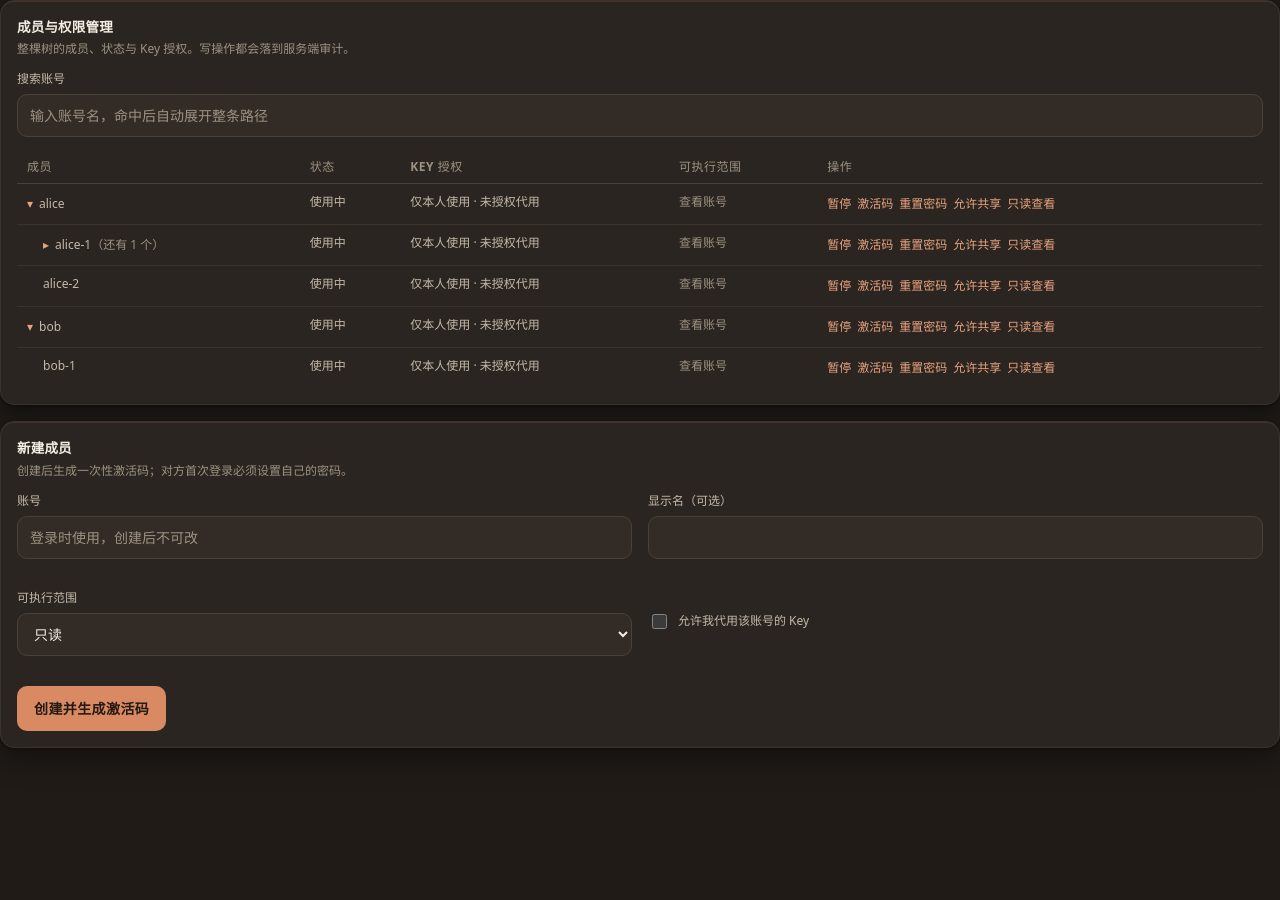
Test: 成员页根视图：层级树折叠 › 搜索命中时自动展开命中路径并高亮命中片段
Expected: the number of column headings is 5, [17,151,300,184]; [300,151,400,184]; [400,151,669,184]; [669,151,817,184]; [817,151,1263,184]
In the search field labelled "搜索账号": x=640, y=116 [17,94,1263,137], type "alice-1-1"
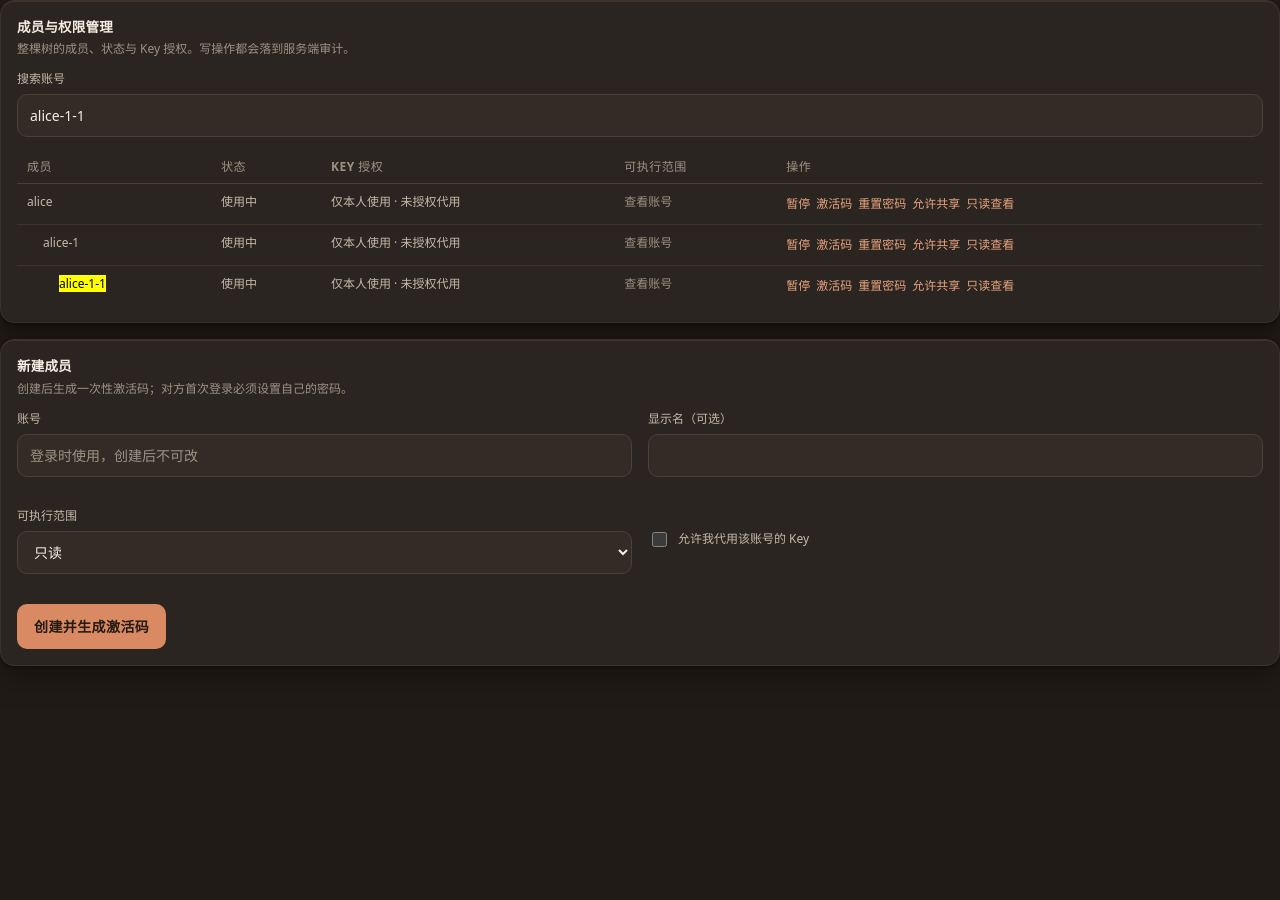
Expected: the text "alice" is shown, [27,193,52,210]
Now the text "bob" is gone
Now the text "alice-1-1" is shown, box [59,275,106,292]
